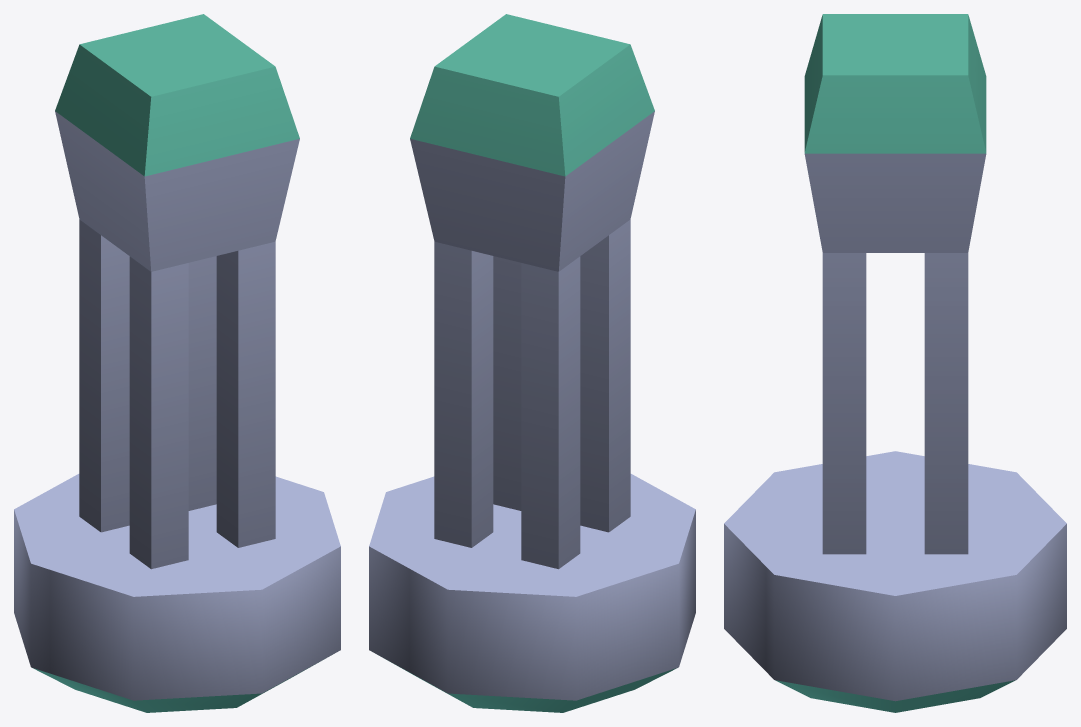
Rendered from sh-buoy.glb.
3 renders of one model, left to right at view 1: azimuth 30°, elevation 25°; view 2: azimuth 150°, elevation 25°; view 3: azimuth 270°, elevation 25°, orthographic.
Parts seen in each view (by area): view 1: buoy; view 2: buoy; view 3: buoy.
Boxes of the visible parts, <box> form: buoy: <box>14,14,340,712</box>; buoy: <box>369,14,695,712</box>; buoy: <box>724,14,1066,712</box>.
Bounding box in the file's own units: 0.9282 × 1.84 × 0.9282.
Materials: 1 (1 with a texture image).
